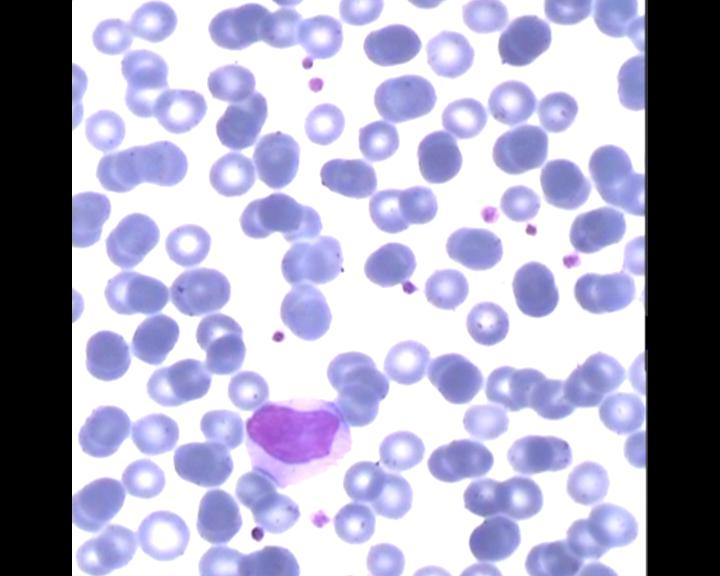mono: (240, 390, 351, 491)
